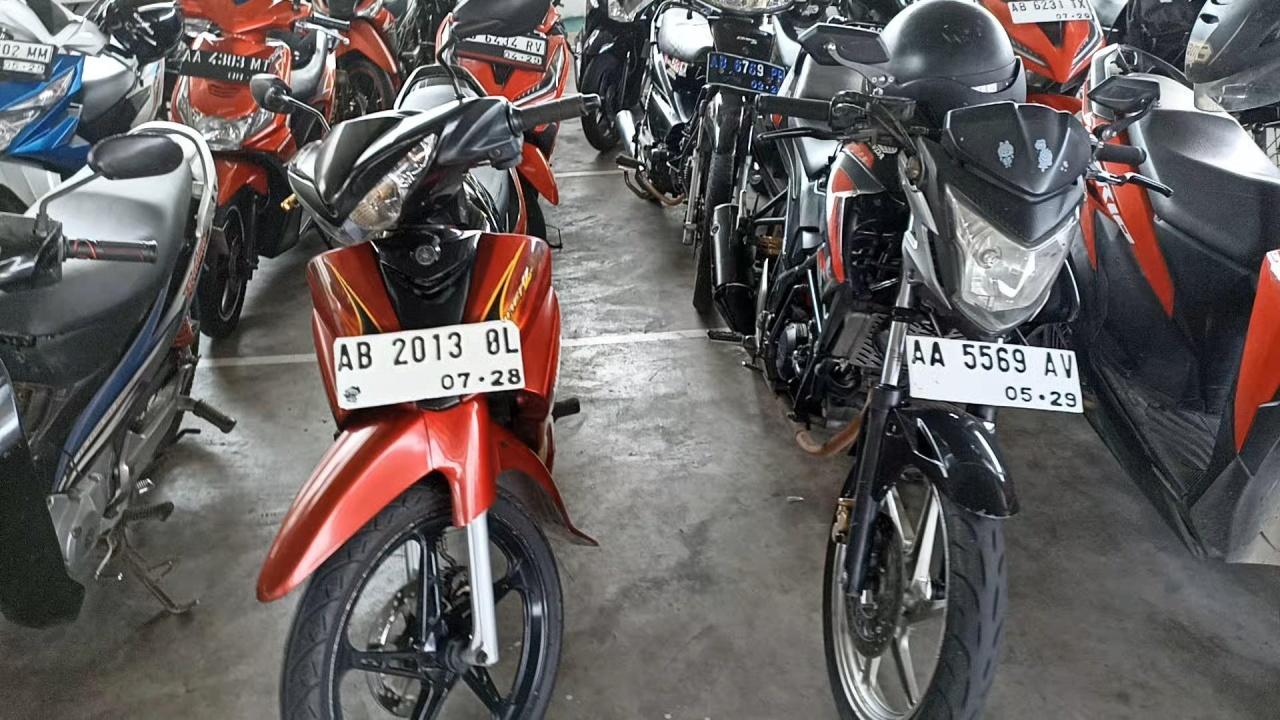plate: (333, 319, 526, 412), (906, 335, 1084, 412)
